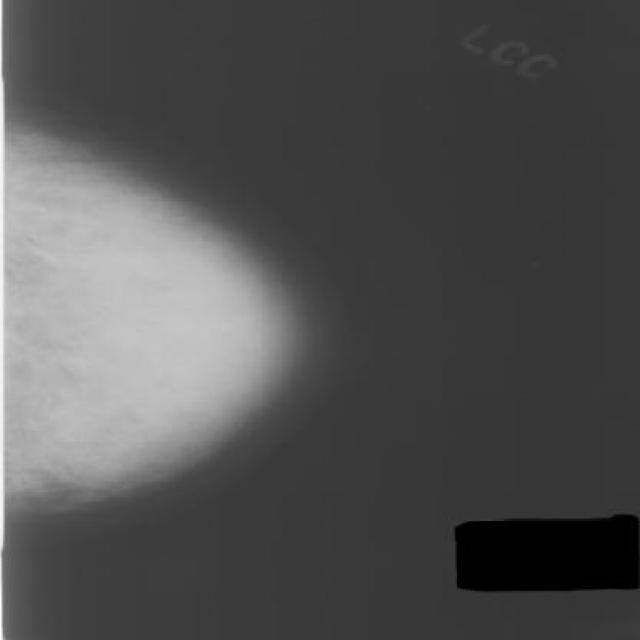tumor: (26, 186, 271, 468)
